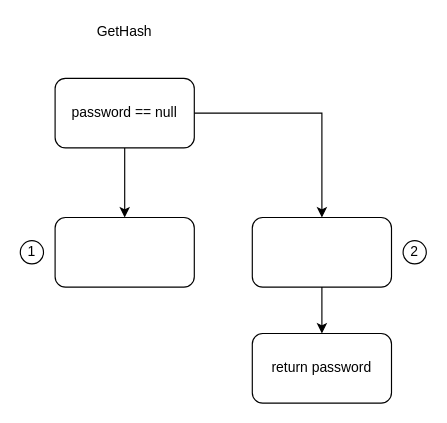
This 447x423 diagram has some shape labels left out. The shapes that lost their labels are listed below. From the top down, each one's centre as x and y in pixels, then its label:
At (124,251): "return null".
At (321,251): "convert password".
